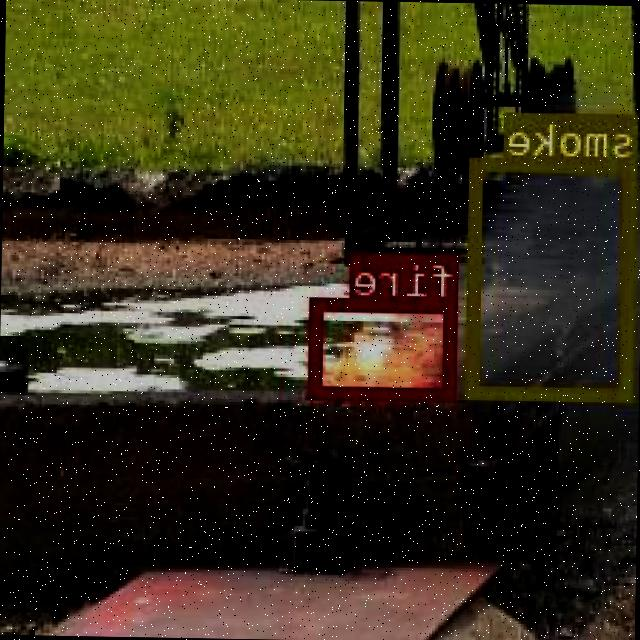fire: (311, 295, 458, 398)
smoke: (468, 156, 638, 398)
